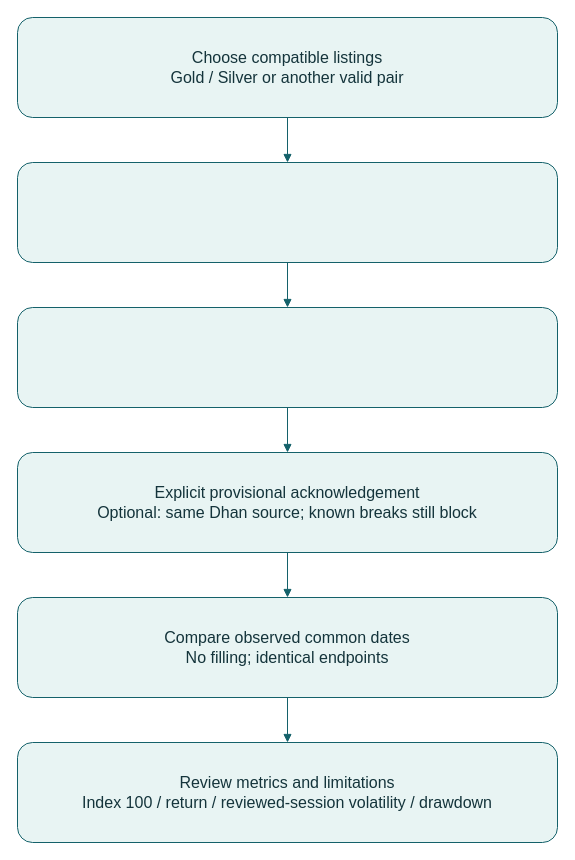
Some shapes in this 575 by 860 pixel diagram are drawn without their labels. The box of each missing label's shape, as (x1, y1, x2, y2) in pixels:
Check basis and adjustment evidence Strict compatibility by default: (16, 306, 558, 408)
Inspect cached common period No download from this button: (16, 162, 558, 262)
